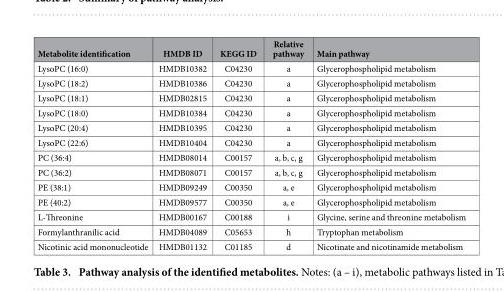table: (36, 37, 465, 252)
table column: (309, 37, 465, 252), (36, 37, 152, 252), (152, 37, 212, 252), (212, 37, 263, 252), (263, 37, 309, 252)
table column header: (36, 37, 465, 60)
table row: (36, 37, 465, 60), (36, 60, 465, 75), (36, 75, 465, 90), (36, 104, 465, 119), (36, 119, 465, 134), (36, 134, 465, 149), (36, 149, 465, 164), (36, 164, 465, 179), (36, 179, 465, 194), (36, 194, 465, 209), (36, 223, 465, 238), (36, 90, 465, 104), (36, 209, 465, 223), (36, 238, 465, 252)
